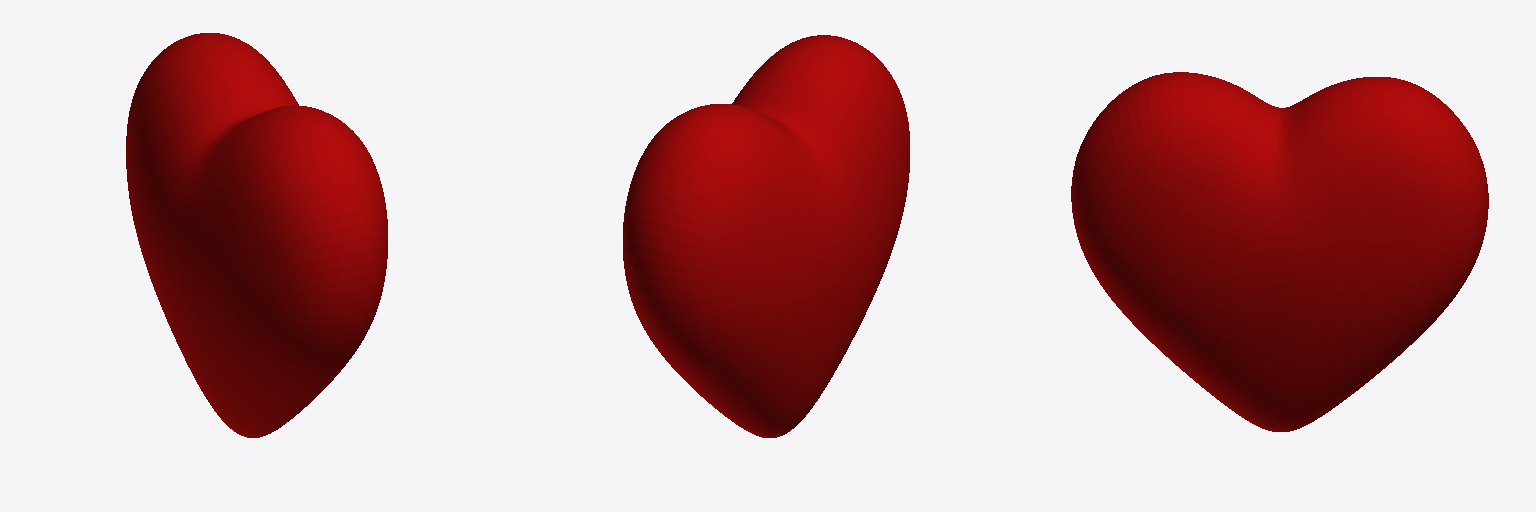
Rendered from heart.obj.
3 views of the same model, side by side, from view 1: azimuth 30°, elevation 25°; view 2: azimuth 150°, elevation 25°; view 3: azimuth 270°, elevation 25° (orthographic).
Parts seen in each view (by area): view 1: Heart; view 2: Heart; view 3: Heart.
Part boxes in pixels (bbox=[...]): Heart: bbox=[126, 33, 387, 437]; Heart: bbox=[623, 35, 909, 437]; Heart: bbox=[1071, 72, 1488, 431].
Size of the model in its own units: 0.1259 by 0.2704 by 0.2884.